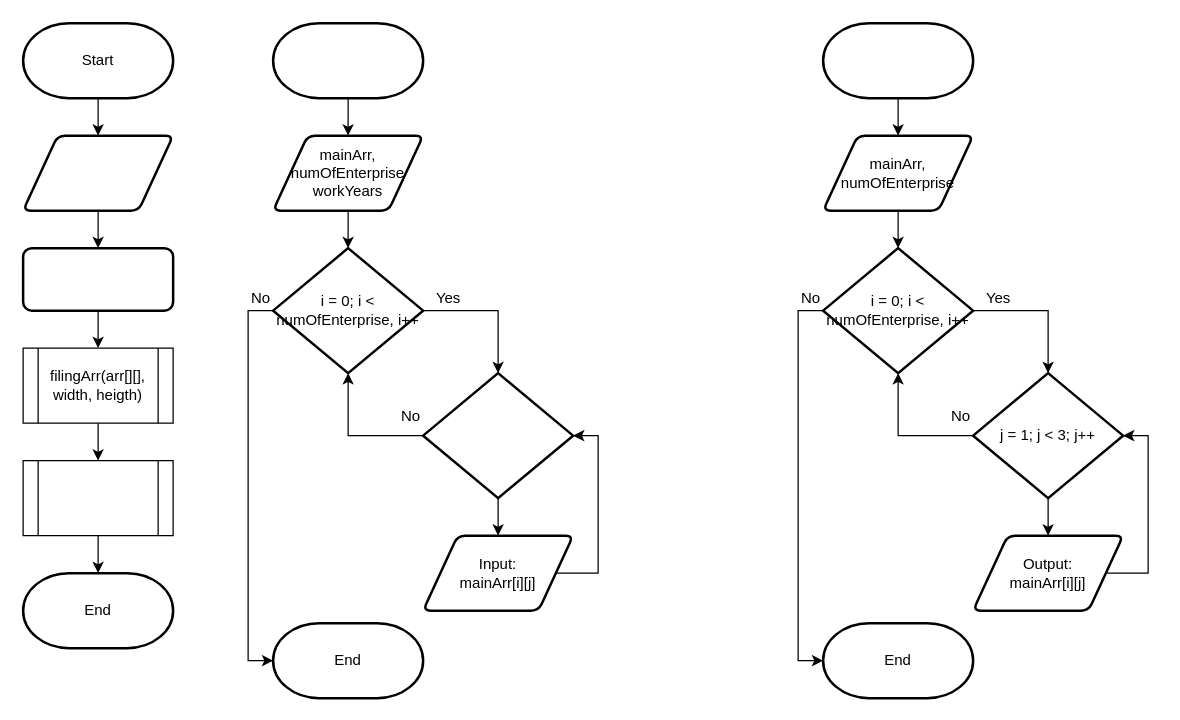
Some shapes in this 1180 by 720 pixel diagram are drawn without their labels. The box of each missing label's shape, as (x1, y1, x2, y2) in pixels:
fillingArr: (271, 21, 424, 99)
j = 0; j < workYears; j++: (421, 371, 574, 499)
mainArr [numOfEnterprise] [workYears]: (21, 246, 174, 311)
numOfEnterprise workYears: (21, 134, 174, 211)
outStatistic: (821, 21, 974, 99)
outStatistic(arr[], width): (22, 459, 173, 536)
